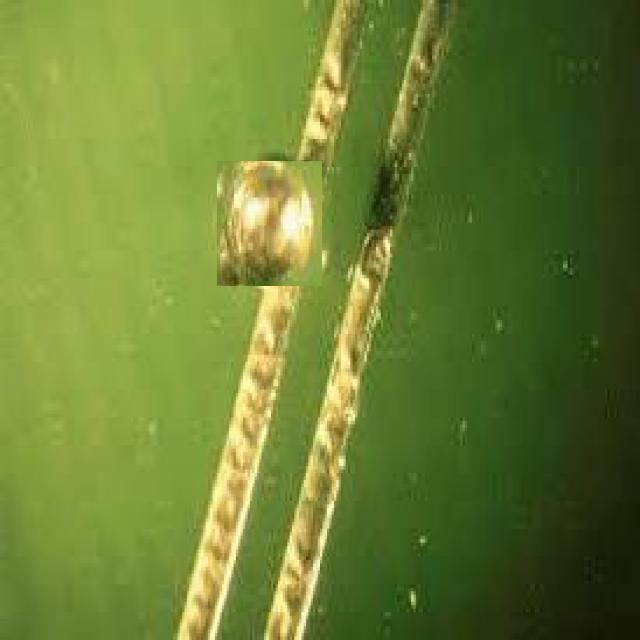redundant: (218, 161, 321, 286)
